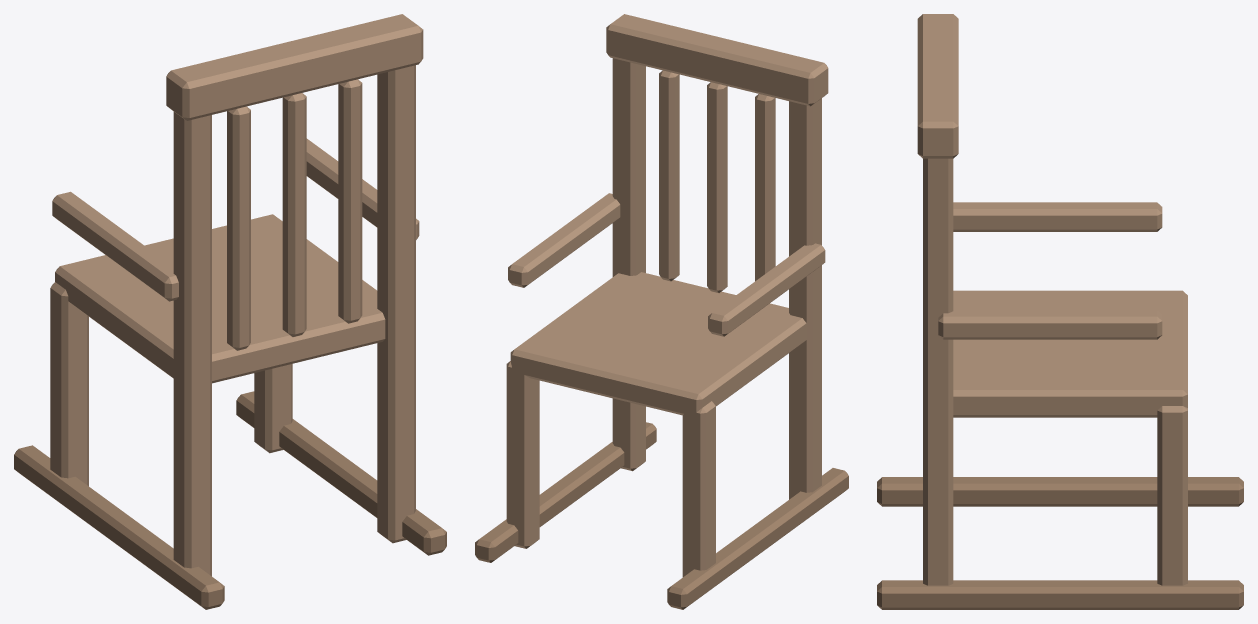
Rendered from SM_Rocking_Chair.fbx.
3 renders of one model, left to right at view 1: azimuth 30°, elevation 25°; view 2: azimuth 150°, elevation 25°; view 3: azimuth 270°, elevation 25°, orthographic. The views are drawn at different scales.
Visible parts, largest first — view 1: Rocking_Chair; view 2: Rocking_Chair; view 3: Rocking_Chair.
Boxes of the visible parts, box(x1,y1,x2,y2) form: Rocking_Chair: box(14, 14, 446, 609); Rocking_Chair: box(475, 14, 848, 609); Rocking_Chair: box(877, 14, 1243, 609).
Size of the model in its own units: 55 by 106 by 72.
